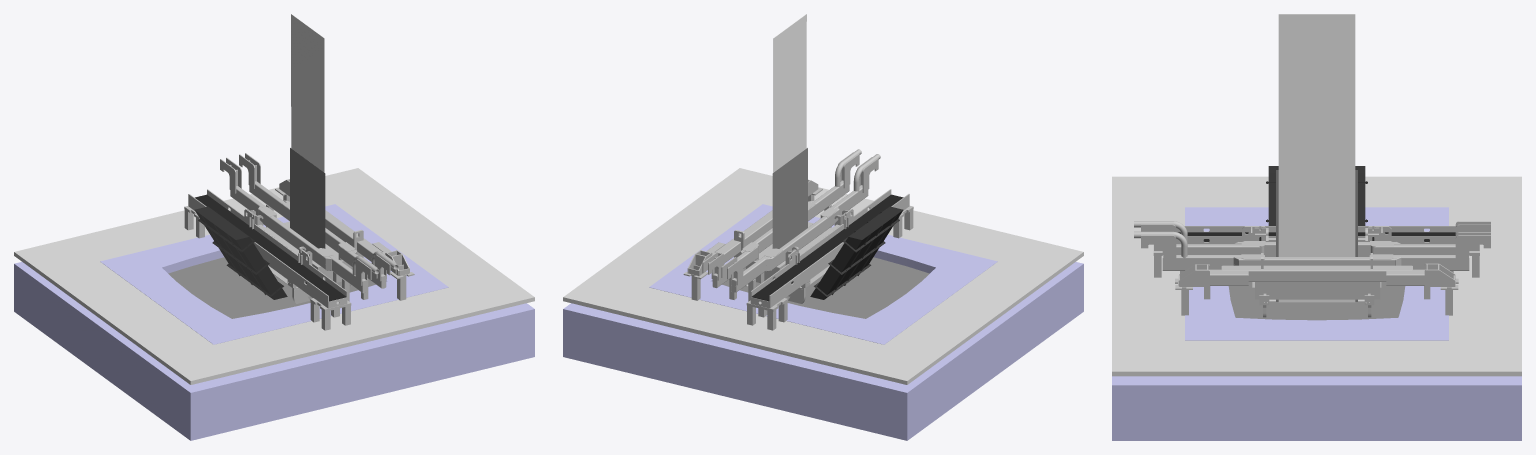
Rendered from Bath_2020_01_27.FBX.
The picture shows the model from 3 angles, left to right: view 1: azimuth 30°, elevation 25°; view 2: azimuth 150°, elevation 25°; view 3: azimuth 270°, elevation 25°; orthographic projection. The views are drawn at different scales.
Visible parts, largest first — view 1: Bath, Box003, Boss-Extrude1 (×4), Sheet_metal, Dross, Inlet, Pilars, Chamfer1, Cut-Extrude2; view 2: Bath, Box003, Boss-Extrude1 (×4), Sheet_metal, Dross, Inlet, Pilars, Chamfer1, Cut-Extrude4; view 3: Box003, Bath, Sheet_metal, Boss-Extrude1 (×8), Dross, Cut-Extrude1 (×4), Knifebox001, Cut-Extrude4 (×2), Cut-Extrude2 (×2), Chamfer1, Inlet, Pilars.
Part boxes in pixels (x1=…): Bath: x1=14, y1=204, x2=534, y2=440; Box003: x1=14, y1=168, x2=534, y2=384; Boss-Extrude1 (×4): x1=188, y1=148, x2=382, y2=307; Sheet_metal: x1=291, y1=14, x2=324, y2=172; Dross: x1=168, y1=257, x2=375, y2=318; Inlet: x1=194, y1=206, x2=287, y2=299; Pilars: x1=184, y1=194, x2=406, y2=330; Chamfer1: x1=258, y1=206, x2=330, y2=269; Cut-Extrude2: x1=249, y1=181, x2=289, y2=221; Bath: x1=563, y1=204, x2=1083, y2=440; Box003: x1=563, y1=168, x2=1083, y2=384; Boss-Extrude1 (×4): x1=715, y1=148, x2=909, y2=307; Sheet_metal: x1=773, y1=14, x2=806, y2=172; Dross: x1=722, y1=257, x2=929, y2=318; Inlet: x1=810, y1=206, x2=903, y2=299; Pilars: x1=691, y1=194, x2=913, y2=330; Chamfer1: x1=766, y1=207, x2=838, y2=269; Cut-Extrude4: x1=808, y1=180, x2=849, y2=221; Box003: x1=1112, y1=176, x2=1521, y2=376; Bath: x1=1112, y1=207, x2=1521, y2=440; Sheet_metal: x1=1278, y1=14, x2=1355, y2=302; Boss-Extrude1 (×8): x1=1141, y1=170, x2=1490, y2=286; Dross: x1=1228, y1=282, x2=1405, y2=320; Cut-Extrude1 (×4): x1=1154, y1=236, x2=1478, y2=285; Knifebox001: x1=1255, y1=282, x2=1380, y2=299; Cut-Extrude4 (×2): x1=1163, y1=244, x2=1261, y2=270; Cut-Extrude2 (×2): x1=1374, y1=244, x2=1468, y2=270; Chamfer1: x1=1234, y1=257, x2=1399, y2=265; Inlet: x1=1266, y1=166, x2=1367, y2=225; Pilars: x1=1154, y1=256, x2=1479, y2=315.
Bounding box in the file's own units: 9000 × 8000 × 7500.
